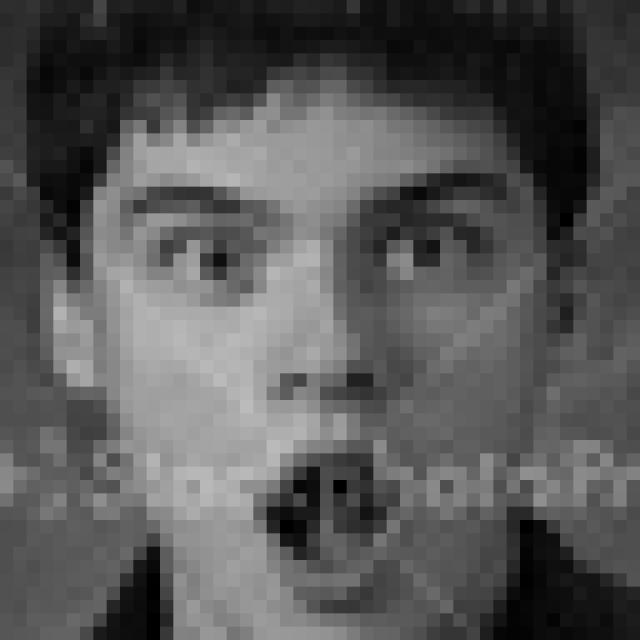surprise: (108, 171, 531, 614)
